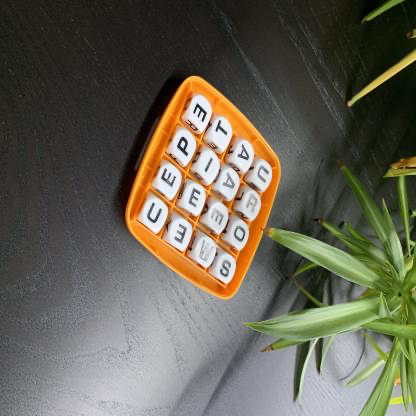a: (234, 142, 256, 170), (220, 169, 240, 197)
e: (158, 165, 183, 198), (184, 183, 207, 215), (170, 219, 193, 250), (191, 98, 212, 128), (208, 203, 230, 231)
i: (200, 151, 221, 180)
o: (231, 220, 250, 250)
p: (173, 131, 197, 163)
r: (244, 192, 262, 219)
s: (217, 255, 237, 284)
t: (211, 118, 234, 148)
u: (143, 199, 168, 232), (255, 162, 273, 190)
w: (197, 237, 217, 267)
